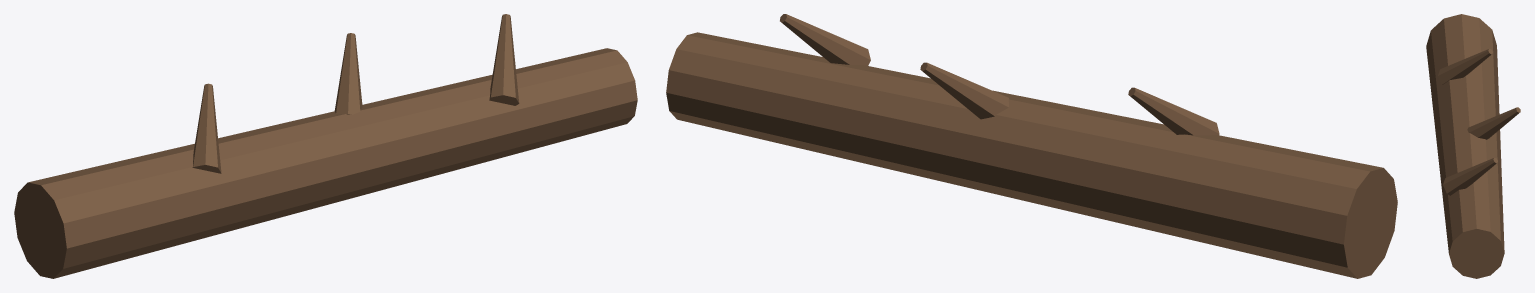
Rendered from fallen_log_spring.glb.
3 views of the same model, side by side, from view 1: azimuth 30°, elevation 25°; view 2: azimuth 150°, elevation 25°; view 3: azimuth 270°, elevation 25° (orthographic). The views are drawn at different scales.
Visible parts, largest first — view 1: fallen_log_spring; view 2: fallen_log_spring; view 3: fallen_log_spring.
Part boxes in pixels (x1,y1,x2,y2): fallen_log_spring: (14,14,637,278); fallen_log_spring: (666,14,1397,278); fallen_log_spring: (1426,14,1520,278).
Bounding box in the file's own units: 3.82 × 0.8193 × 0.7477.
